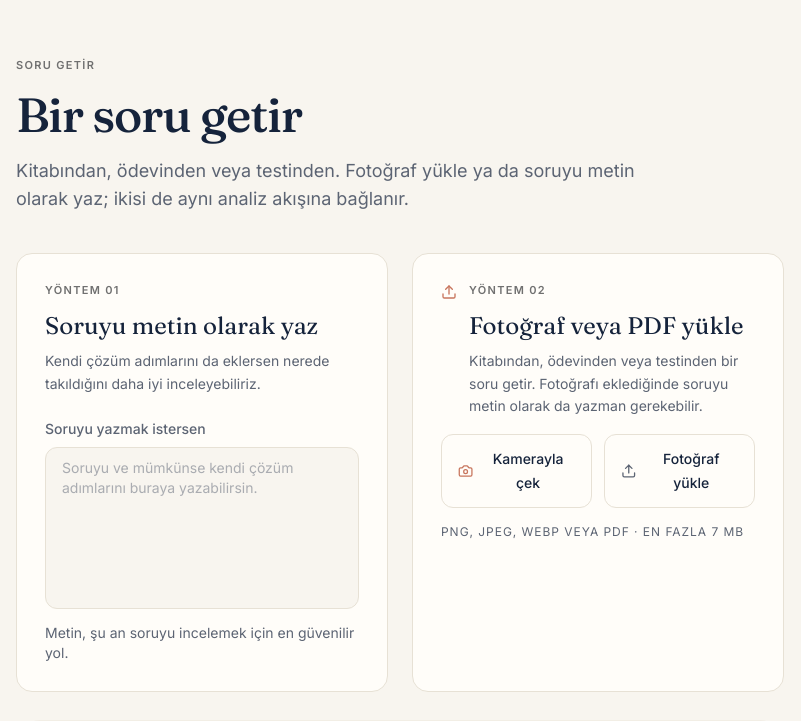
Test: SoruGetir › surfaces a network failure with a retry that replays the analysis
Later steps or results of the test are not shown.
Type "Bir soru" into the text box labelled "Soruyu yazmak istersen" at (202, 528), box top-left (45, 447), bottom-right (359, 609)
(page scrolled)
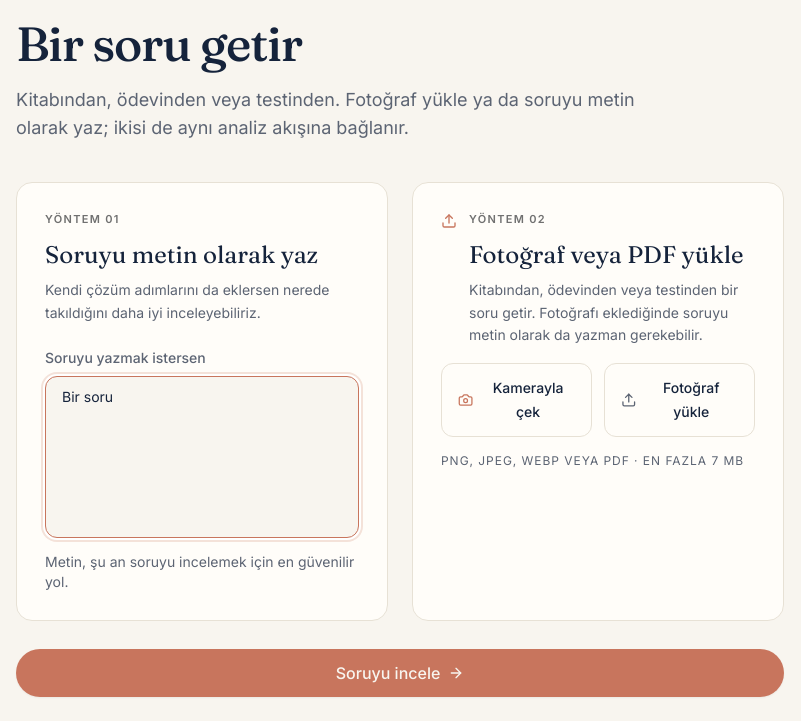
Click the button "Soruyu incele" at (400, 673), box top-left (16, 649), bottom-right (784, 697)
(page scrolled)
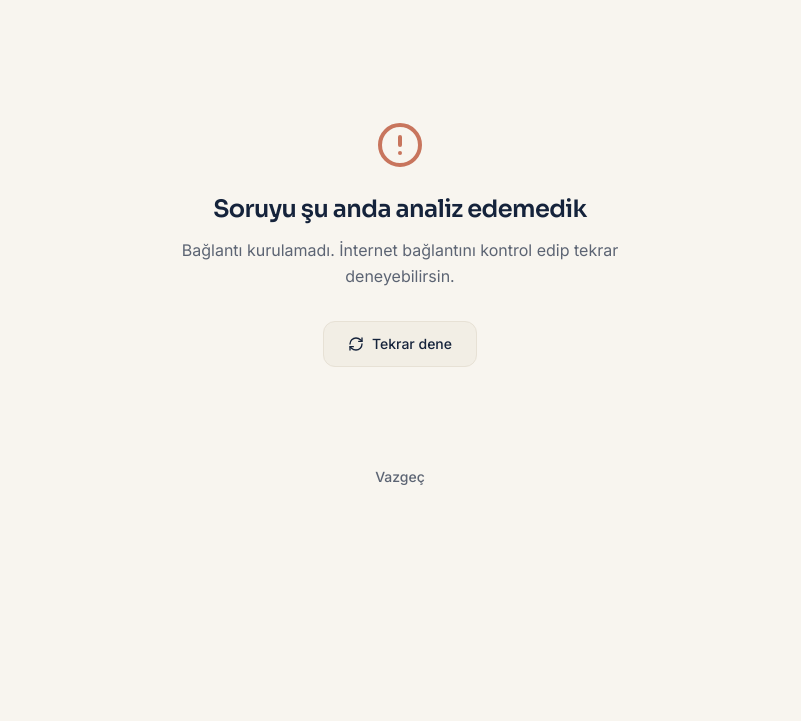
Result: the text "Bağlantı kurulamadı" is shown at top-left (182, 240), bottom-right (618, 286)
